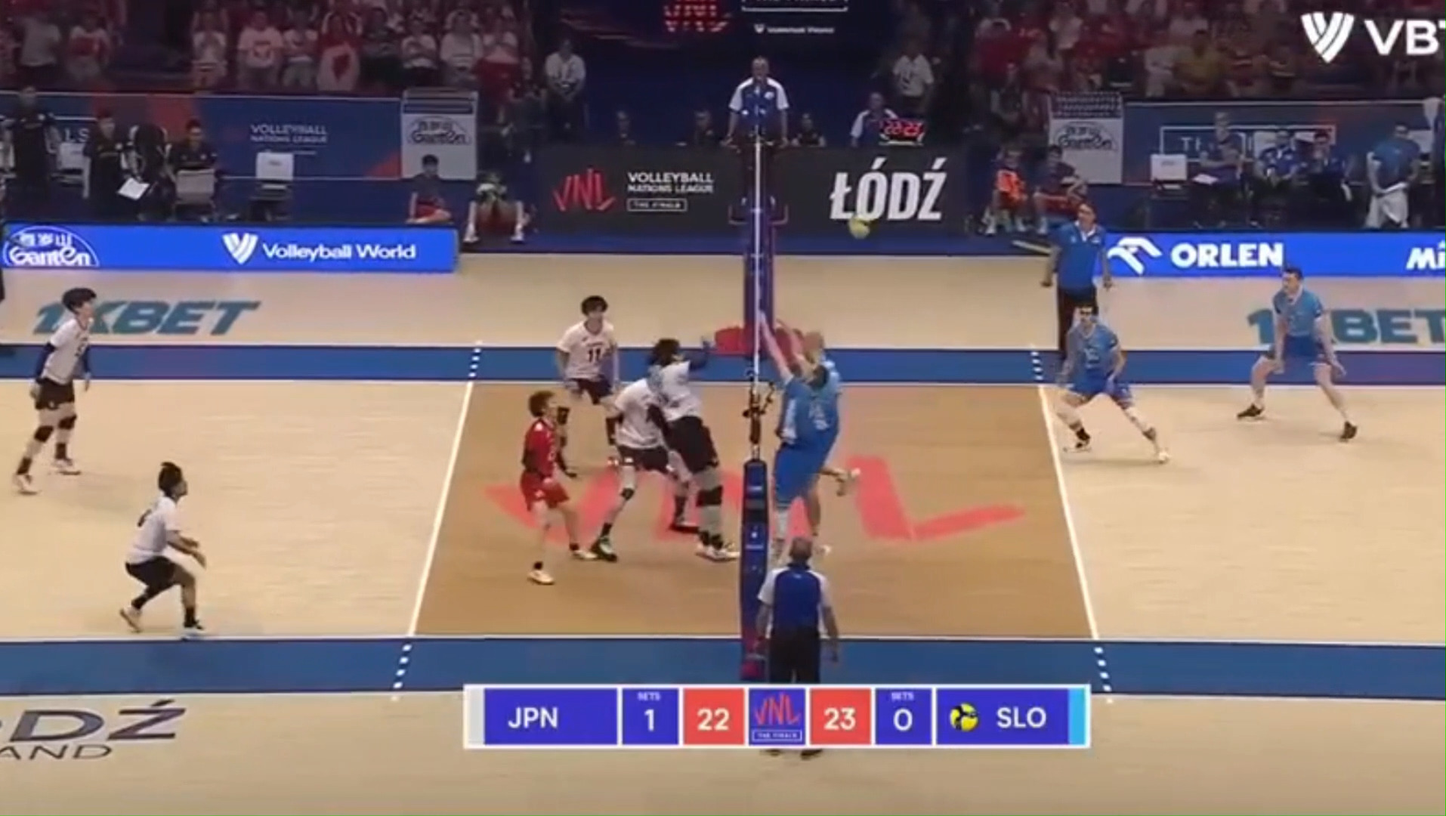ball: (847, 216, 871, 239)
player: (1237, 266, 1358, 440), (1055, 304, 1169, 462), (765, 336, 837, 560), (799, 331, 842, 440), (820, 465, 858, 495)
player 1: (647, 338, 736, 560), (13, 287, 96, 494), (593, 379, 687, 559), (120, 462, 205, 635), (518, 391, 594, 559), (555, 295, 619, 408), (556, 406, 572, 453), (529, 555, 553, 585), (604, 414, 616, 453)
referee: (755, 537, 839, 684), (1043, 203, 1111, 360), (726, 56, 789, 215)
